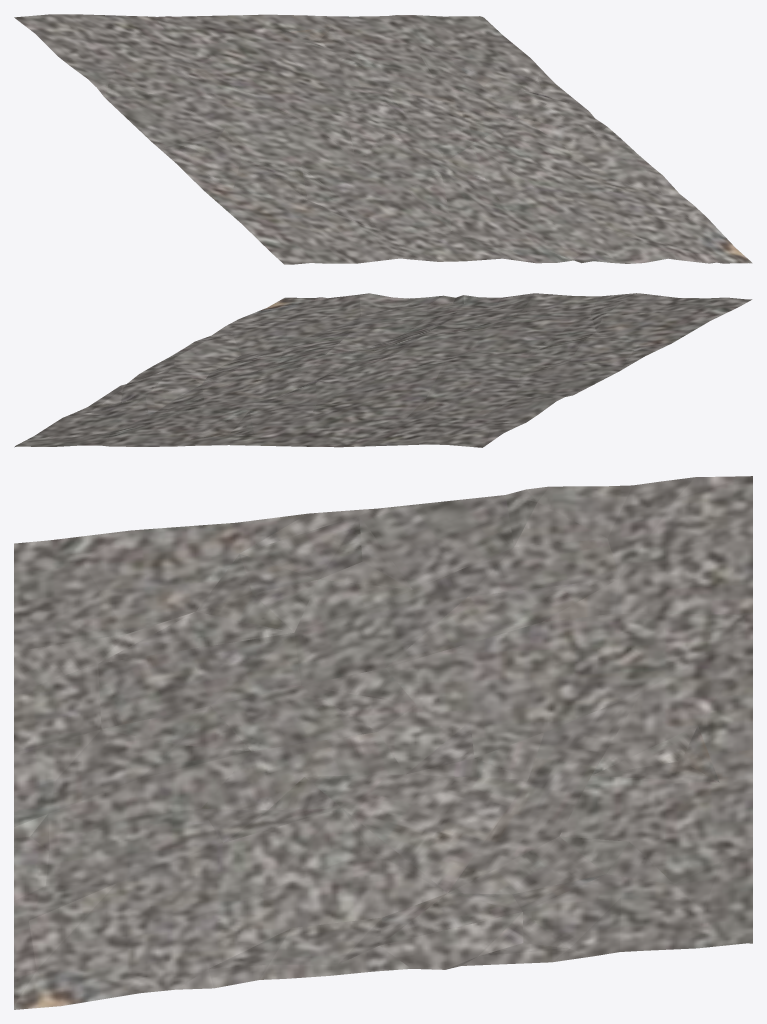
3 renders of one model, top to bottom at view 1: azimuth 30°, elevation 25°; view 2: azimuth 150°, elevation 25°; view 3: azimuth 270°, elevation 25°, orthographic. The views are drawn at different scales.
Size of the model in its own units: 0.8374 by 0.2771 by 0.8374.
Materials: 3 (3 with a texture image).
